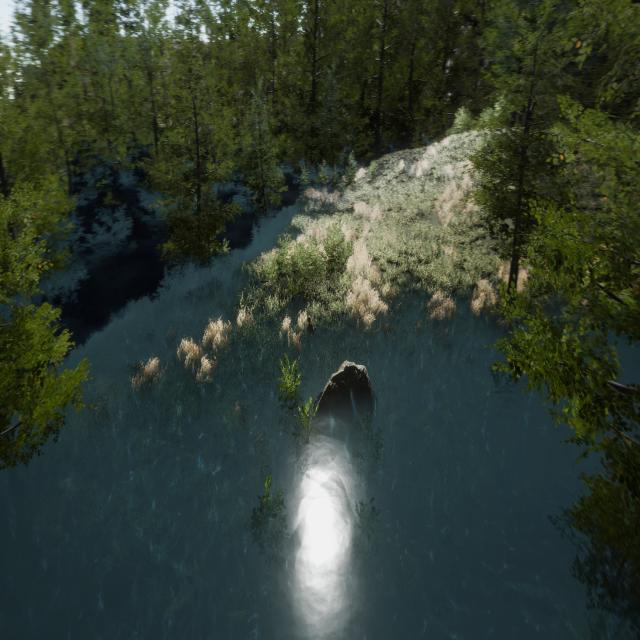Human: (303, 314, 319, 342)
